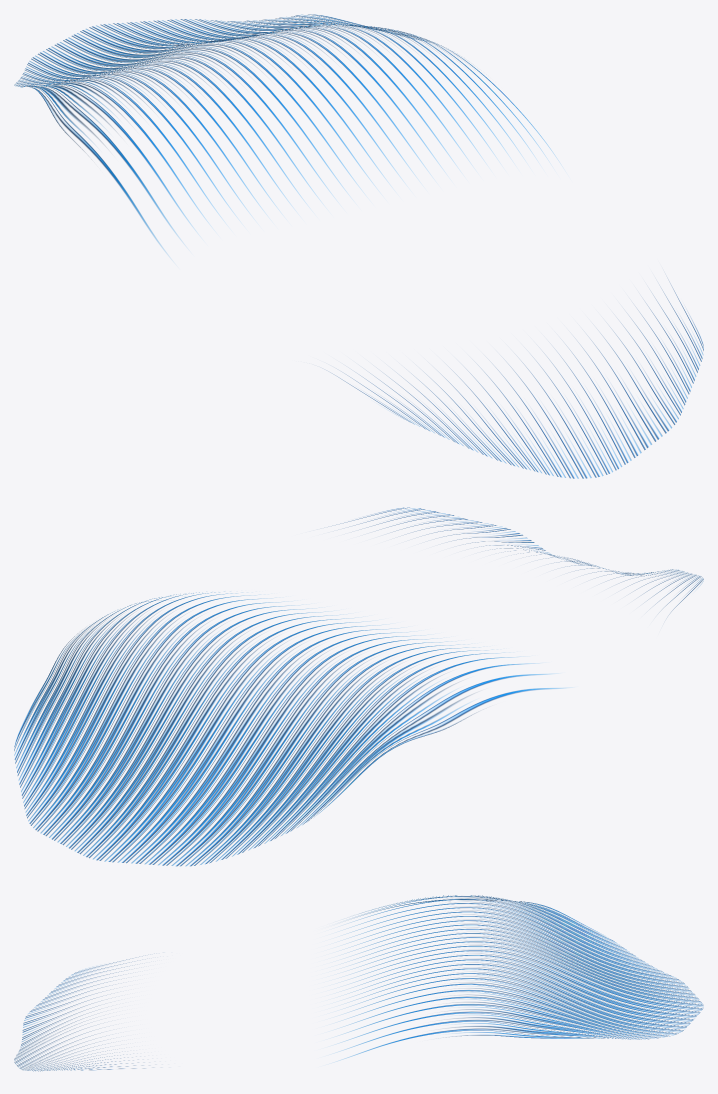
The picture shows the model from 3 angles, top to bottom: view 1: azimuth 30°, elevation 25°; view 2: azimuth 150°, elevation 25°; view 3: azimuth 270°, elevation 25°; orthographic projection. The views are drawn at different scales.
Visible parts, largest first — view 1: 流; view 2: 流; view 3: 流.
Part boxes in pixels (box(x1,y1,x2,y2)): 流: box(14, 14, 703, 478); 流: box(14, 507, 703, 866); 流: box(14, 895, 703, 1071).
Size of the model in its own units: 3.82 by 1.52 by 8.21.
Materials: 1 (1 with a texture image).
